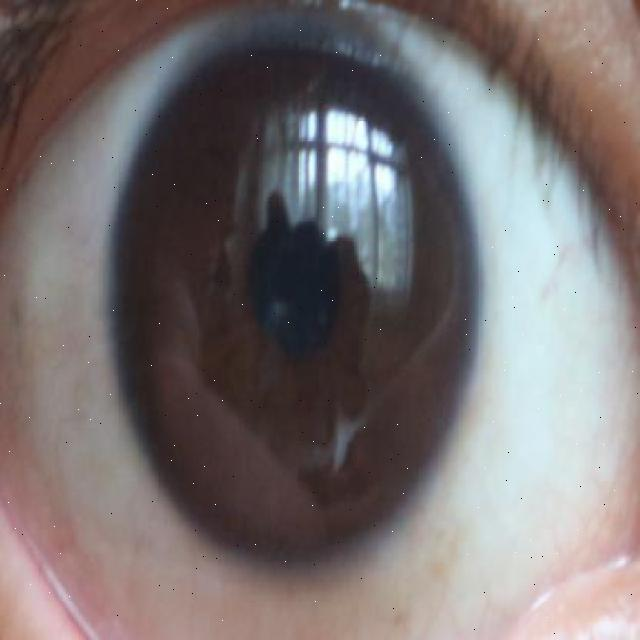Normal: (110, 34, 486, 570)
